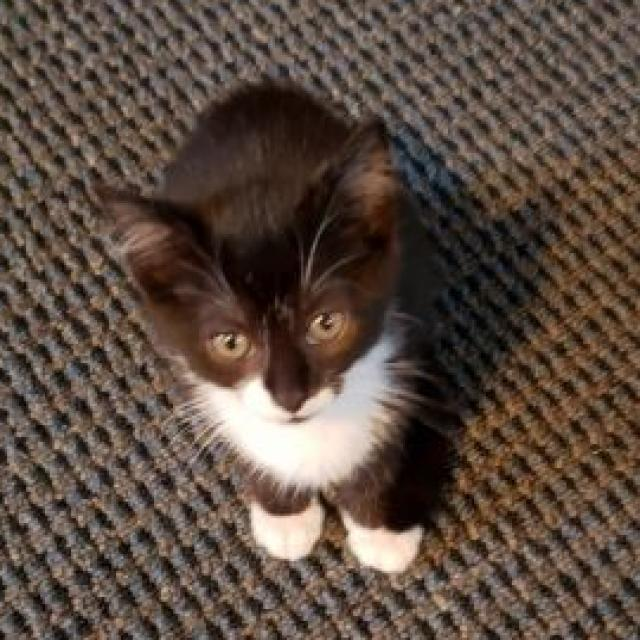Tuxedo: (96, 79, 446, 576)
